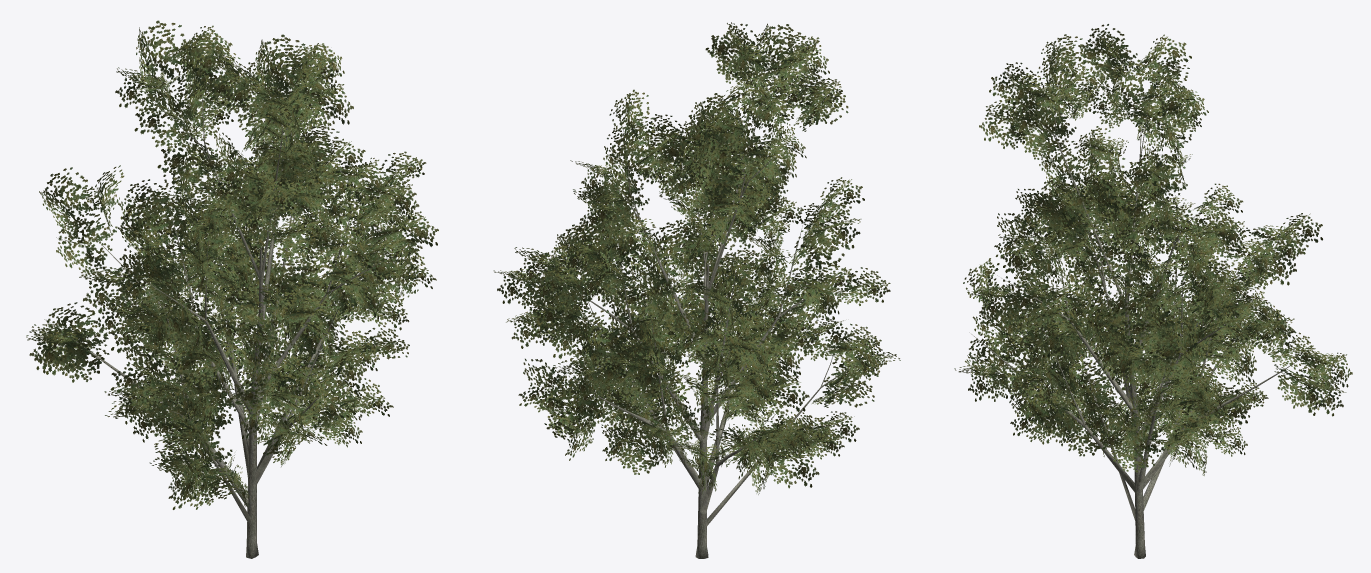
Rendered from defaultmaplemountain.glb.
3 renders of one model, left to right at view 1: azimuth 30°, elevation 25°; view 2: azimuth 150°, elevation 25°; view 3: azimuth 270°, elevation 25°, orthographic. The views are drawn at different scales.
Parts seen in each view (by area): view 1: DefaultMapleMountain; view 2: DefaultMapleMountain; view 3: DefaultMapleMountain.
Boxes of the visible parts, x1=… form: DefaultMapleMountain: x1=26, y1=20, x2=438, y2=558; DefaultMapleMountain: x1=493, y1=22, x2=900, y2=558; DefaultMapleMountain: x1=954, y1=24, x2=1352, y2=558.
Bounding box in the file's own units: 12.51 × 17.68 × 13.53.
Materials: 2 (2 with a texture image).
